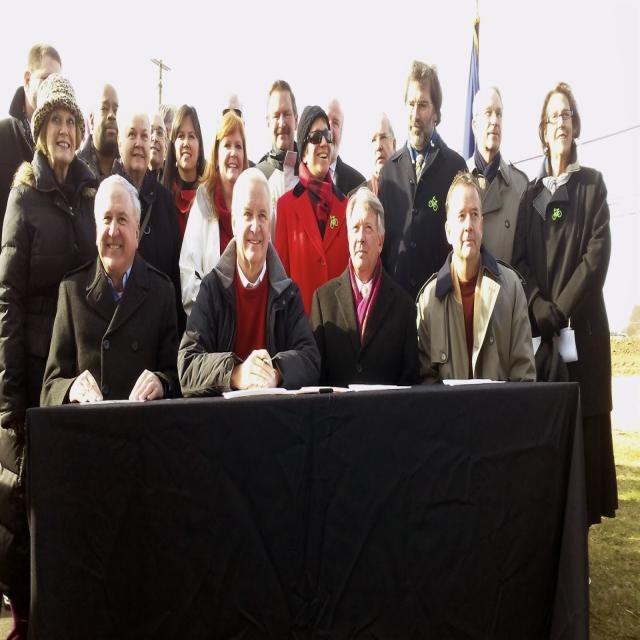body: (0, 74, 102, 640), (508, 80, 620, 532), (175, 165, 323, 400), (39, 173, 179, 406), (416, 168, 537, 385), (308, 184, 418, 386), (378, 59, 469, 299), (273, 103, 351, 324), (178, 111, 250, 330), (113, 103, 183, 292), (0, 40, 62, 253), (466, 83, 531, 269), (252, 77, 310, 250), (158, 103, 208, 238), (313, 95, 365, 193), (348, 112, 396, 216), (74, 81, 123, 179), (147, 104, 179, 171), (219, 92, 244, 129)
